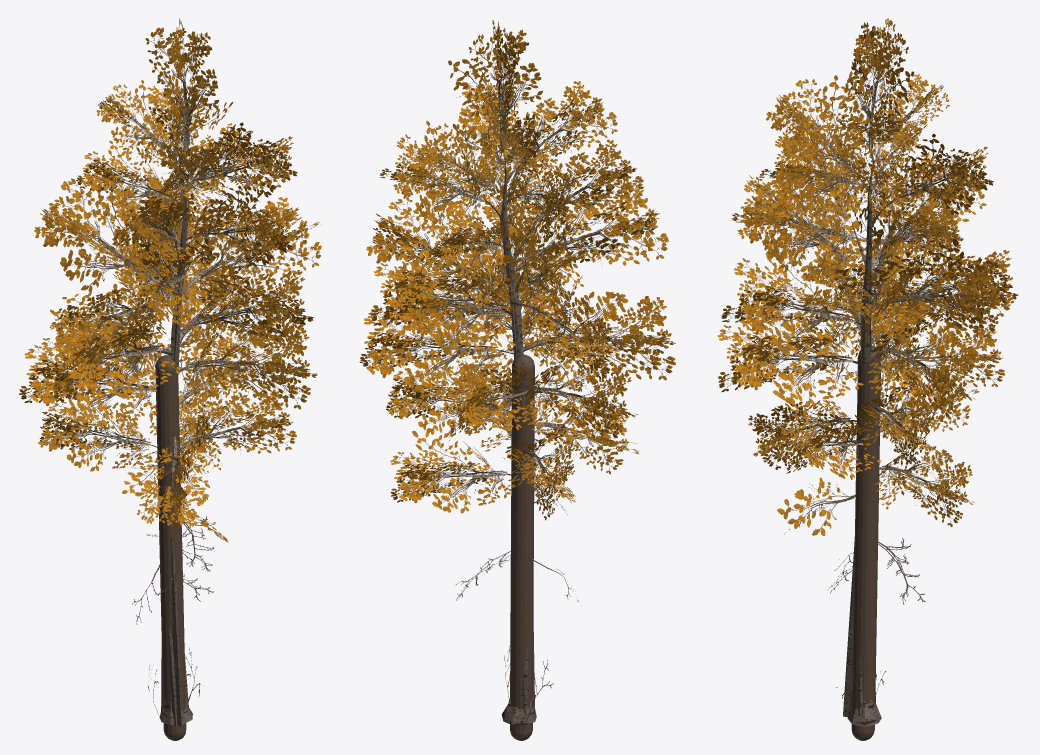
Rendered from tree_autumn.gltf.
3 views of the same model, side by side, from view 1: azimuth 30°, elevation 25°; view 2: azimuth 150°, elevation 25°; view 3: azimuth 270°, elevation 25° (orthographic). The views are drawn at different scales.
Parts seen in each view (by area): view 1: SM_Autumn_01; view 2: SM_Autumn_01; view 3: SM_Autumn_01.
Boxes of the visible parts, left/top/right/bottom form: SM_Autumn_01: left=19, top=18, right=321, bottom=740; SM_Autumn_01: left=359, top=20, right=675, bottom=740; SM_Autumn_01: left=717, top=18, right=1018, bottom=740.
Size of the model in its own units: 3.45 by 8 by 3.16.
2 materials, 2 textured.
